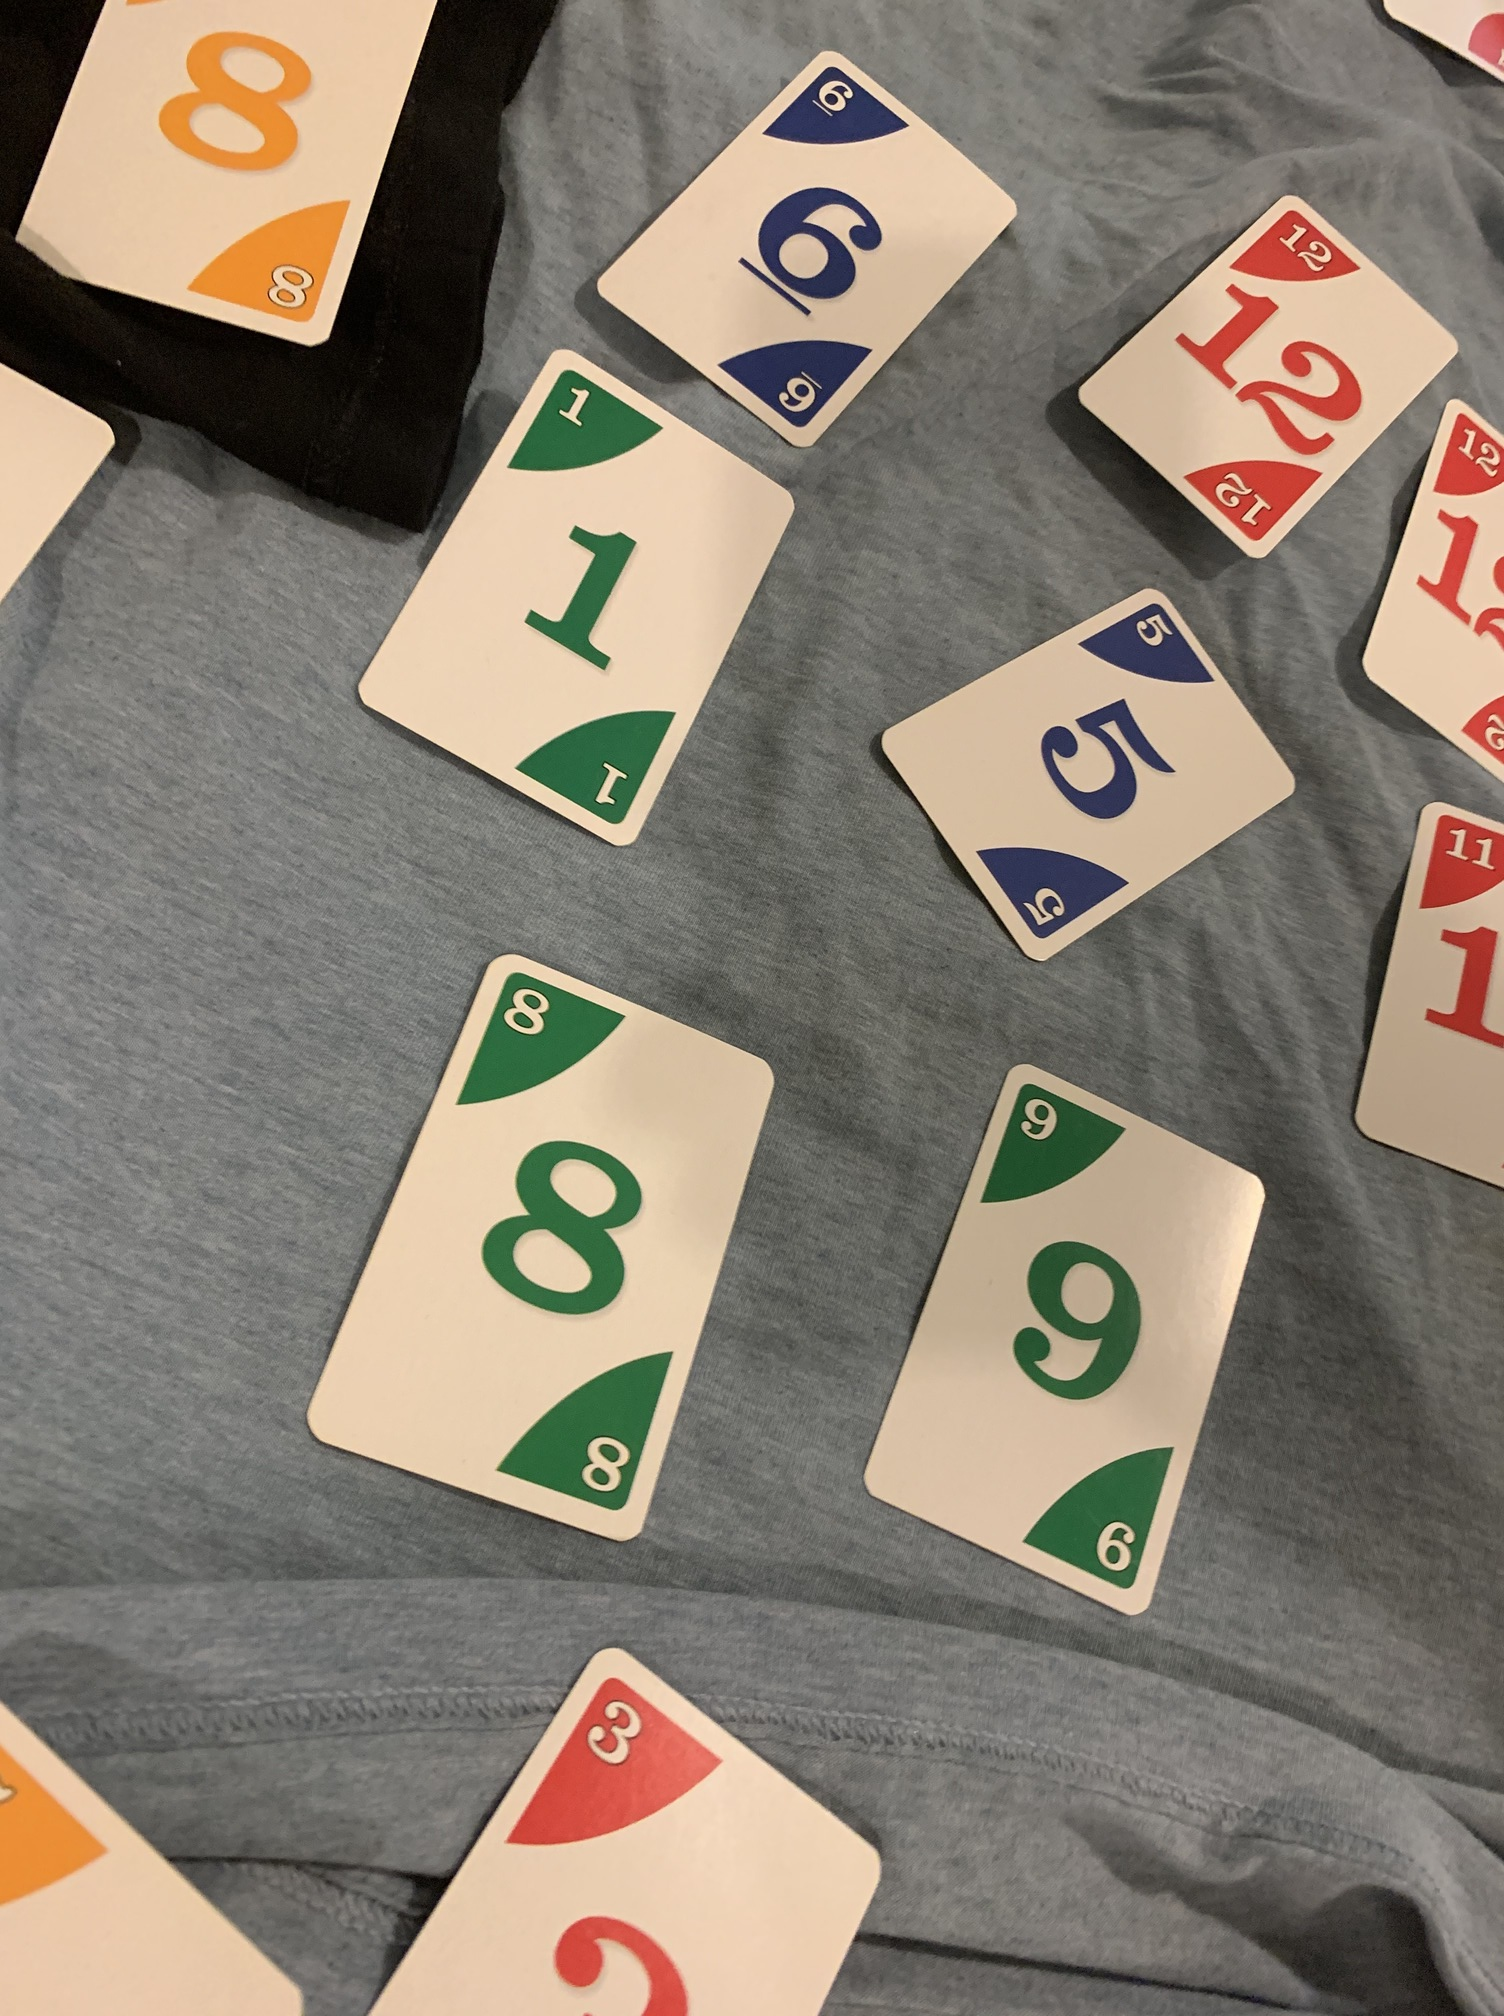eight: (297, 946, 776, 1548), (6, 2, 464, 351)
five: (861, 588, 1311, 976)
nine: (856, 1059, 1275, 1632)
one: (352, 340, 795, 856)
six: (583, 55, 1033, 465)
twelve: (1065, 186, 1476, 585)
